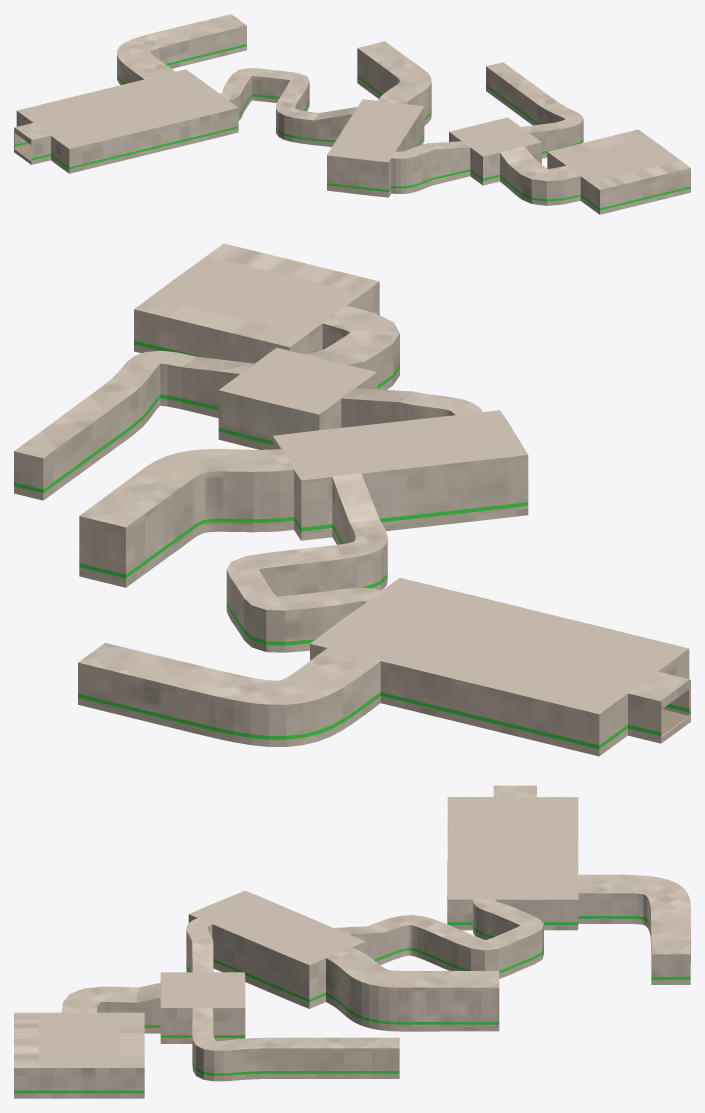
The model's file is NewLevel.fbx.
3 renders of one model, top to bottom at view 1: azimuth 30°, elevation 25°; view 2: azimuth 150°, elevation 25°; view 3: azimuth 270°, elevation 25°, orthographic. The views are drawn at different scales.
Parts seen in each view (by area): view 1: Cube; view 2: Cube; view 3: Cube.
Part boxes in pixels (x1=…): Cube: x1=14, y1=14, x2=690, y2=214; Cube: x1=14, y1=243, x2=690, y2=756; Cube: x1=14, y1=785, x2=690, y2=1098.
Size of the model in its own units: 1037 by 75.01 by 1050.
